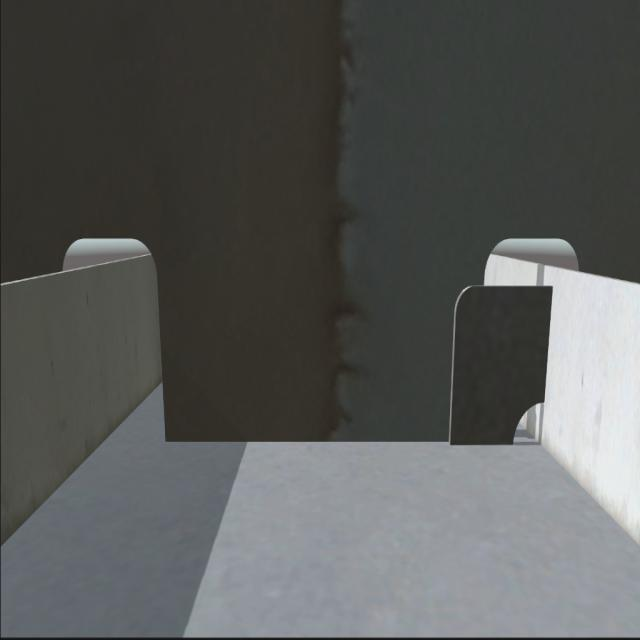fillet_hole: (513, 404, 545, 444)
fillet_yong_jeop_jang: (159, 429, 523, 452)
longi_yong_jeop_jang: (538, 279, 556, 400)
plate_CP05: (450, 280, 551, 445)
